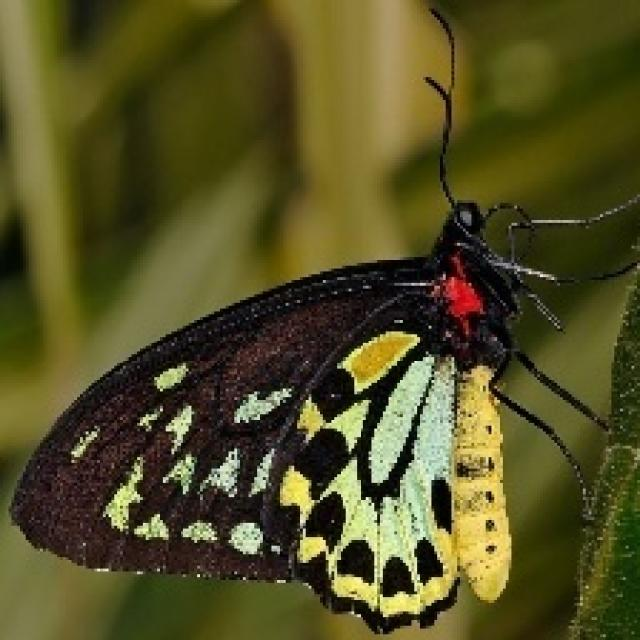butterfly: (6, 3, 637, 637)
